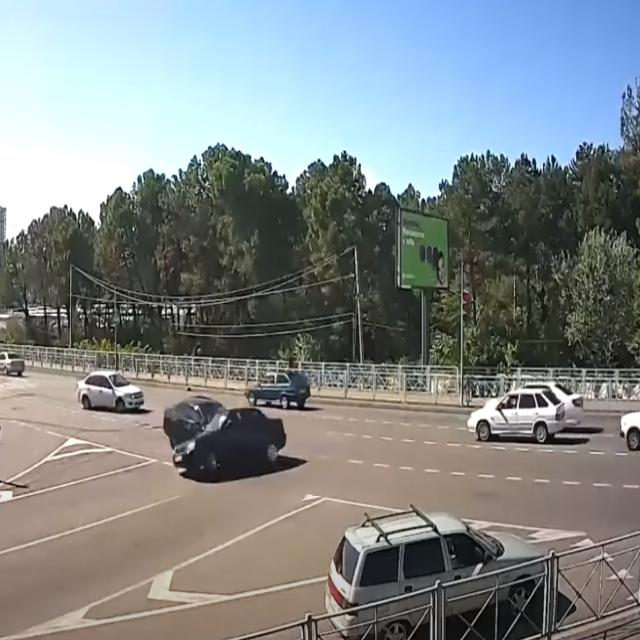accident: (162, 393, 290, 481)
non-accident: (467, 379, 589, 445)
